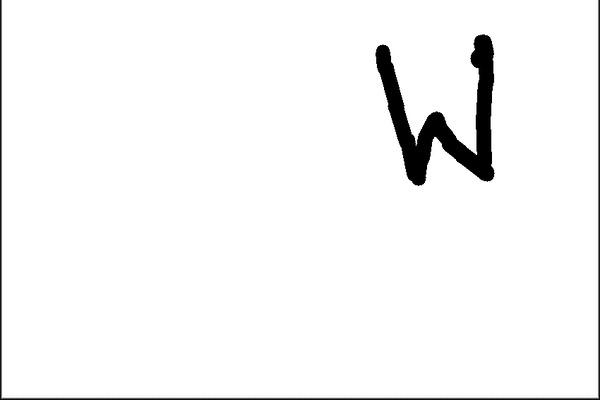w: (356, 26, 517, 206)
